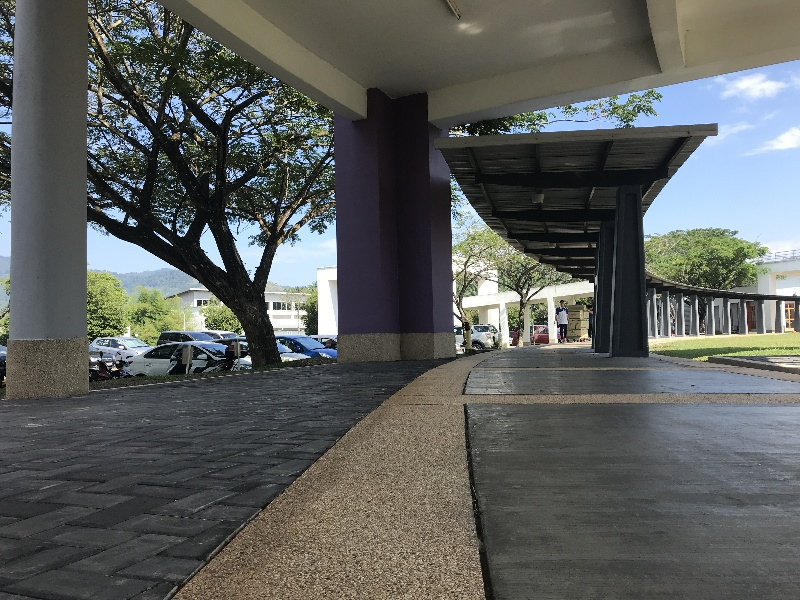Block D Pillar 6: (6, 6, 798, 538)
pillar: (320, 84, 470, 380), (8, 3, 94, 401), (602, 182, 653, 364)
